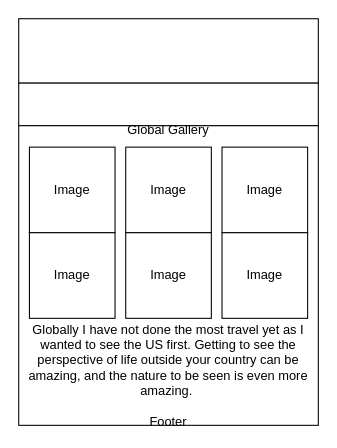
Some shapes in this 337 by 448 pixel diagram are drawn without their labels. Here are the shapes that lost their labels. From the top down, the centre of each, then its label:
At [168,50]: "Life Through The Lens".
At [168,104]: "About ~ US Gallery ~ Global Gallery ~ Review Form".
